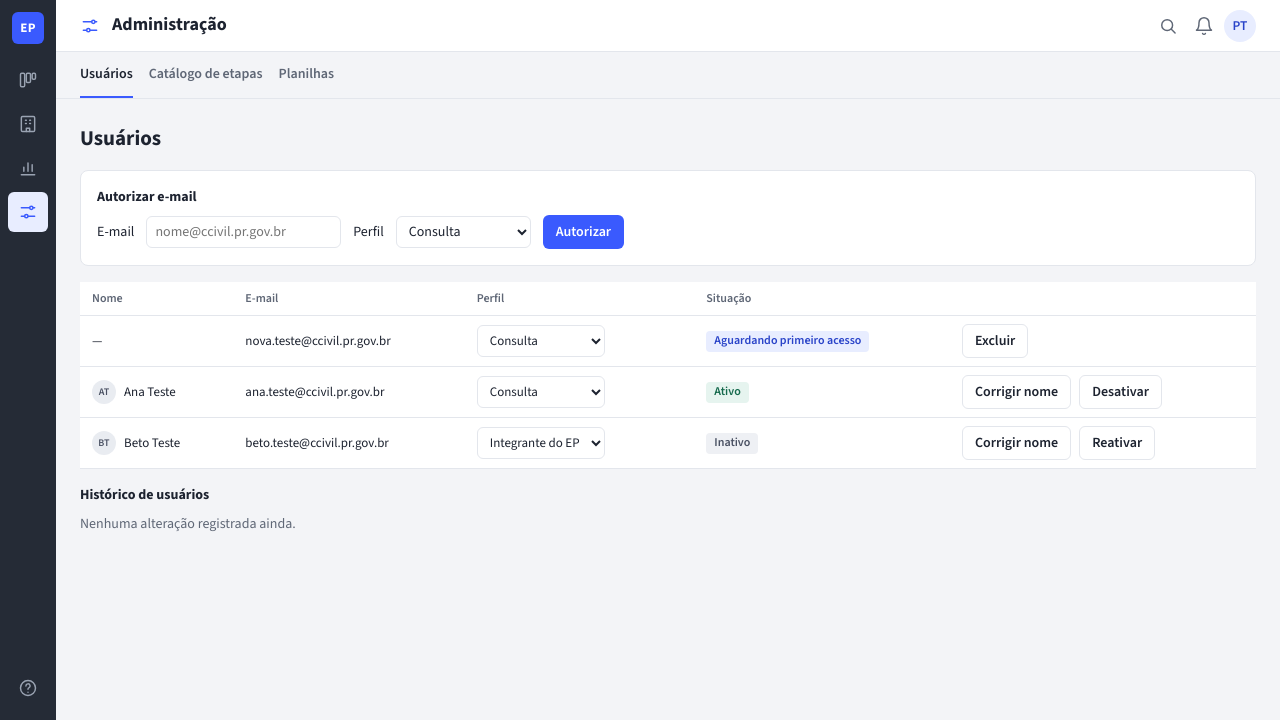
Test: trava: desativar a si mesmo mostra a regra e mantém a linha
Expected: the table is shown, [80,282,1256,469]
Click the button "Desativar".
click(1121, 392)  # box [1079,375,1162,409]
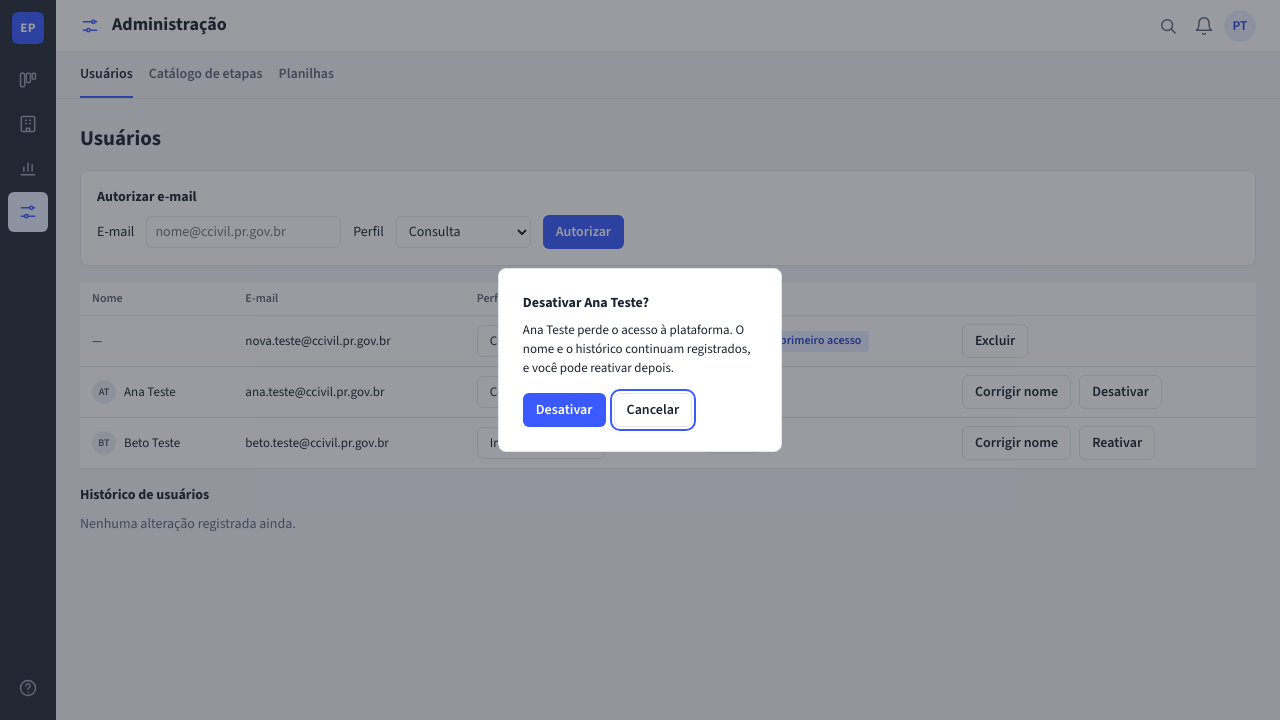
Click the button "Desativar" below "Desativar Ana Teste?".
click(564, 410)  # box [523,393,606,427]
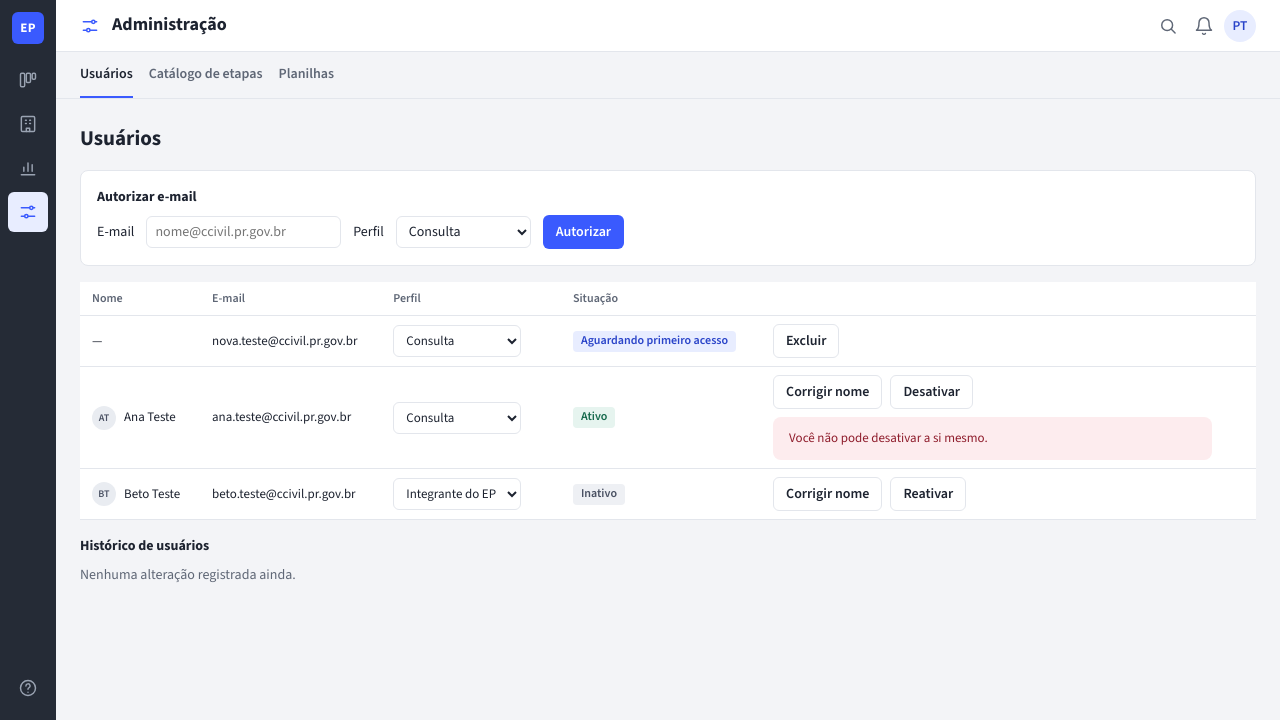
Now the text "Você não pode desativar a si mesmo." is shown, box [773,417,1212,460]
